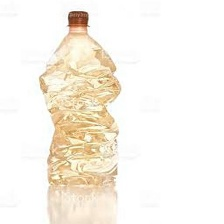bottle: (34, 9, 126, 188)
